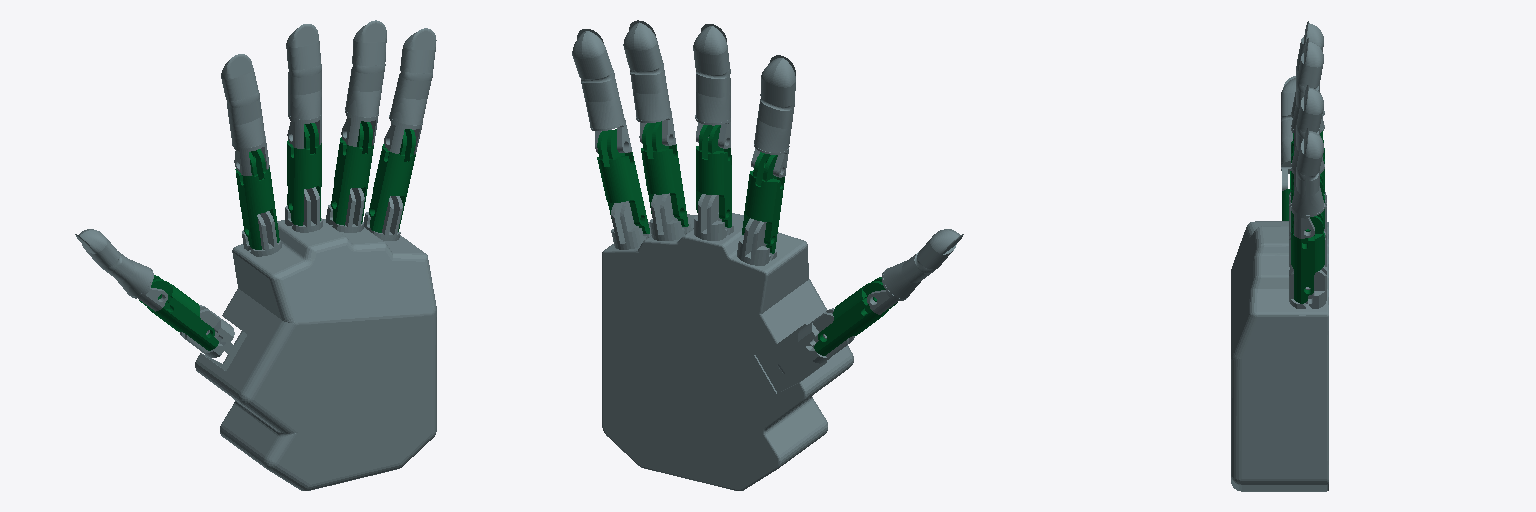
robot.urdf — hermes_right_hand:
<?xml version="1.0"?>
<robot name="hermes_right_hand">

 <!-- **************************** LINKS ***************************** -->
  <link name="r_base_hand"> 
    <inertial>
      <origin xyz="0 0 0" /> 
      <mass value="1.0" />
      <inertia  ixx="1.0" ixy="0.0"  ixz="0.0"  iyy="1.0"  iyz="0.0"  izz="1.0" />
    </inertial>
    <visual>
      <origin xyz="0 0 0"/>
      <geometry>
        <mesh filename="package://hermes_arm_kdl/stl/right_base_hand.stl" />
      </geometry>
      <material name="link">
        <color rgba="0.4706 0.5451 0.5647 1"/>
      </material>
    </visual>
    <collision>
      <origin rpy="0 0 0" xyz="0 0 0"/>
      <geometry>
        <mesh filename="package://hermes_arm_kdl/stl/right_base_hand.stl" />
      </geometry>
    </collision>	
  </link>

  <link name="r_thumb1"> 
    <inertial>
      <origin xyz="0 0 0" /> 
      <mass value="1.0" />
      <inertia  ixx="1.0" ixy="0.0"  ixz="0.0"  iyy="1.0"  iyz="0.0"  izz="1.0" />
    </inertial>
    <visual>
      <origin xyz="0 0 0"/>
      <geometry>
        <mesh filename="package://hermes_arm_kdl/stl/right_thumb_link1.stl" />
      </geometry>
      <material name="link">
        <color rgba="0.4706 0.5451 0.5647 1"/>
      </material>
    </visual>
    <collision>
      <origin rpy="0 0 0" xyz="0 0 0"/>
      <geometry>
        <mesh filename="package://hermes_arm_kdl/stl/right_thumb_link1.stl" />
      </geometry>
    </collision>	
  </link>

  <link name="r_thumb2"> 
    <inertial>
      <origin xyz="0 0 0" /> 
      <mass value="1.0" />
      <inertia  ixx="1.0" ixy="0.0"  ixz="0.0"  iyy="1.0"  iyz="0.0"  izz="1.0" />
    </inertial>
    <visual>
      <origin xyz="0 0 0"/>
      <geometry>
        <mesh filename="package://hermes_arm_kdl/stl/right_thumb_link2.stl" />
      </geometry>
      <material name="link2">
        <color rgba="0.03922 0.39922 0.2118 1"/>
      </material>
    </visual>
    <collision>
      <origin rpy="0 0 0" xyz="0 0 0"/>
      <geometry>
        <mesh filename="package://hermes_arm_kdl/stl/right_thumb_link2.stl" />
      </geometry>
    </collision>	
  </link>


  <link name="r_thumb3"> 
    <inertial>
      <origin xyz="0 0 0" /> 
      <mass value="1.0" />
      <inertia  ixx="1.0" ixy="0.0"  ixz="0.0"  iyy="1.0"  iyz="0.0"  izz="1.0" />
    </inertial>
    <visual>
      <origin xyz="0 0 0"/>
      <geometry>
        <mesh filename="package://hermes_arm_kdl/stl/right_thumb_link3.stl" />
      </geometry>
      <material name="link">
        <color rgba="0.4706 0.5451 0.5647 1"/>
      </material>
    </visual>
    <collision>
      <origin rpy="0 0 0" xyz="0 0 0"/>
      <geometry>
        <mesh filename="package://hermes_arm_kdl/stl/right_thumb_link3.stl" />
      </geometry>
    </collision>	
  </link>
  
  


  <link name="r_index1"> 
    <inertial>
      <origin xyz="0 0 0" /> 
      <mass value="1.0" />
      <inertia  ixx="1.0" ixy="0.0"  ixz="0.0"  iyy="1.0"  iyz="0.0"  izz="1.0" />
    </inertial>
    <visual>
      <origin xyz="0 0 0"/>
      <geometry>
        <mesh filename="package://hermes_arm_kdl/stl/right_index_link1.stl" />
      </geometry>
      <material name="link2">
        <color rgba="0.03922 0.39922 0.2118 1"/>
      </material>
    </visual>
    <collision>
      <origin rpy="0 0 0" xyz="0 0 0"/>
      <geometry>
        <mesh filename="package://hermes_arm_kdl/stl/right_index_link1.stl" />
      </geometry>
    </collision>	
  </link>

  <link name="r_index2"> 
    <inertial>
      <origin xyz="0 0 0" /> 
      <mass value="1.0" />
      <inertia  ixx="1.0" ixy="0.0"  ixz="0.0"  iyy="1.0"  iyz="0.0"  izz="1.0" />
    </inertial>
    <visual>
      <origin xyz="0 0 0"/>
      <geometry>
        <mesh filename="package://hermes_arm_kdl/stl/right_index_link2.stl" />
      </geometry>
      <material name="link">
        <color rgba="0.4706 0.5451 0.5647 1"/>
      </material>
    </visual>
    <collision>
      <origin rpy="0 0 0" xyz="0 0 0"/>
      <geometry>
        <mesh filename="package://hermes_arm_kdl/stl/right_index_link2.stl" />
      </geometry>
    </collision>	
  </link>



  <link name="r_middle1"> 
    <inertial>
      <origin xyz="0 0 0" /> 
      <mass value="1.0" />
      <inertia  ixx="1.0" ixy="0.0"  ixz="0.0"  iyy="1.0"  iyz="0.0"  izz="1.0" />
    </inertial>
    <visual>
      <origin xyz="0 0 0"/>
      <geometry>
        <mesh filename="package://hermes_arm_kdl/stl/right_middle_link1.stl" />
      </geometry>
      <material name="link2">
        <color rgba="0.03922 0.39922 0.2118 1"/>
      </material>
    </visual>
    <collision>
      <origin rpy="0 0 0" xyz="0 0 0"/>
      <geometry>
        <mesh filename="package://hermes_arm_kdl/stl/right_middle_link1.stl" />
      </geometry>
    </collision>	
  </link>

  <link name="r_middle2"> 
    <inertial>
      <origin xyz="0 0 0" /> 
      <mass value="1.0" />
      <inertia  ixx="1.0" ixy="0.0"  ixz="0.0"  iyy="1.0"  iyz="0.0"  izz="1.0" />
    </inertial>
    <visual>
      <origin xyz="0 0 0"/>
      <geometry>
        <mesh filename="package://hermes_arm_kdl/stl/right_middle_link2.stl" />
      </geometry>
      <material name="link">
        <color rgba="0.4706 0.5451 0.5647 1"/>
      </material>
    </visual>
    <collision>
      <origin rpy="0 0 0" xyz="0 0 0"/>
      <geometry>
        <mesh filename="package://hermes_arm_kdl/stl/right_middle_link2.stl" />
      </geometry>
    </collision>	
  </link>

 <link name="r_ring1"> 
    <inertial>
      <origin xyz="0 0 0" /> 
      <mass value="1.0" />
      <inertia  ixx="1.0" ixy="0.0"  ixz="0.0"  iyy="1.0"  iyz="0.0"  izz="1.0" />
    </inertial>
    <visual>
      <origin xyz="0 0 0"/>
      <geometry>
        <mesh filename="package://hermes_arm_kdl/stl/right_ring_link1.stl" />
      </geometry>
      <material name="link2">
        <color rgba="0.03922 0.39922 0.2118 1"/>
      </material>
    </visual>
    <collision>
      <origin rpy="0 0 0" xyz="0 0 0"/>
      <geometry>
        <mesh filename="package://hermes_arm_kdl/stl/right_ring_link1.stl" />
      </geometry>
    </collision>	
  </link>

  <link name="r_ring2"> 
    <inertial>
      <origin xyz="0 0 0" /> 
      <mass value="1.0" />
      <inertia  ixx="1.0" ixy="0.0"  ixz="0.0"  iyy="1.0"  iyz="0.0"  izz="1.0" />
    </inertial>
    <visual>
      <origin xyz="0 0 0"/>
      <geometry>
        <mesh filename="package://hermes_arm_kdl/stl/right_ring_link2.stl" />
      </geometry>
      <material name="link">
        <color rgba="0.4706 0.5451 0.5647 1"/>
      </material>
    </visual>
    <collision>
      <origin rpy="0 0 0" xyz="0 0 0"/>
      <geometry>
        <mesh filename="package://hermes_arm_kdl/stl/right_ring_link2.stl" />
      </geometry>
    </collision>	
  </link>


 <link name="r_pinky1"> 
    <inertial>
      <origin xyz="0 0 0" /> 
      <mass value="1.0" />
      <inertia  ixx="1.0" ixy="0.0"  ixz="0.0"  iyy="1.0"  iyz="0.0"  izz="1.0" />
    </inertial>
    <visual>
      <origin xyz="0 0 0"/>
      <geometry>
        <mesh filename="package://hermes_arm_kdl/stl/right_pinky_link1.stl" />
      </geometry>
      <material name="link2">
        <color rgba="0.03922 0.39922 0.2118 1"/>
      </material>
    </visual>
    <collision>
      <origin rpy="0 0 0" xyz="0 0 0"/>
      <geometry>
        <mesh filename="package://hermes_arm_kdl/stl/right_pinky_link1.stl" />
      </geometry>
    </collision>	
  </link>

  <link name="r_pinky2"> 
    <inertial>
      <origin xyz="0 0 0" /> 
      <mass value="1.0" />
      <inertia  ixx="1.0" ixy="0.0"  ixz="0.0"  iyy="1.0"  iyz="0.0"  izz="1.0" />
    </inertial>
    <visual>
      <origin xyz="0 0 0"/>
      <geometry>
        <mesh filename="package://hermes_arm_kdl/stl/right_pinky_link2.stl" />
      </geometry>
      <material name="link">
        <color rgba="0.4706 0.5451 0.5647 1"/>
      </material>
    </visual>
    <collision>
      <origin rpy="0 0 0" xyz="0 0 0"/>
      <geometry>
        <mesh filename="package://hermes_arm_kdl/stl/right_pinky_link2.stl" />
      </geometry>
    </collision>	
  </link>

 <link name="r_thumb_eef" /> 
 <link name="r_index_eef" />
 <link name="r_middle_eef" />
 <link name="r_ring_eef" />
 <link name="r_pinky_eef" />
    



  

 <!-- **************************** JOINTS ***************************** -->

  <joint name="r_thumb_joint1" type="revolute">
    <parent link="r_base_hand"/>
    <child link="r_thumb1"/>
    <origin xyz="-0.0403  0.0095 0.0593" rpy="0 -2.3858 0" />
    <limit effort="100" velocity="100" lower="-3.14" upper="3.14" />
    <axis xyz="0 0 1" />
  </joint>

  <joint name="r_thumb_joint2" type="revolute">
    <parent link="r_thumb1"/>
    <child link="r_thumb2"/>
    <origin xyz="0.033 0 0" rpy="-1.5708 0 0" />
    <limit effort="100" velocity="100" lower="-3.14" upper="3.14" />
    <axis xyz="0 0 1" />
  </joint>

  <joint name="r_thumb_joint3" type="revolute">
    <parent link="r_thumb2"/>
    <child link="r_thumb3"/>
    <origin xyz="0.035 0 0" rpy="0 0 0" />
    <limit effort="100" velocity="100" lower="-3.14" upper="3.14" />
    <axis xyz="0 0 1" />
  </joint>

  <joint name="r_thumb_joint_eef" type="fixed">
    <parent link="r_thumb3"/>
    <child link="r_thumb_eef"/>
    <origin xyz="0.055425 0 0" rpy="0 0 0" />
  </joint>


  <joint name="r_index_joint1" type="revolute">
    <parent link="r_base_hand"/>
    <child link="r_index1"/>
    <origin xyz="-0.03 0.0145 0.1240" rpy="-3.1416 -1.4331 -3.1416" />
    <limit effort="100" velocity="100" lower="-3.14" upper="3.14" />
    <axis xyz="0 0 1" />
  </joint>

  <joint name="r_index_joint2" type="revolute">
    <parent link="r_index1"/>
    <child link="r_index2"/>
    <origin xyz="0.035 0 0" rpy="0 0 0" />
    <limit effort="100" velocity="100" lower="-3.14" upper="3.14" />
    <axis xyz="0 0 1" />
  </joint>

  <joint name="r_index_joint_eff" type="fixed">
    <parent link="r_index2"/>
    <child link="r_index_eef"/>
    <origin xyz="0.055425 0 0" rpy="0 0 0" />
  </joint>

  <joint name="r_middle_joint1" type="revolute">
    <parent link="r_base_hand"/>
    <child link="r_middle1"/>
    <origin xyz="-0.0066 0.0145 0.1304" rpy="0 -1.5645 0" />
    <limit effort="100" velocity="100" lower="-3.14" upper="3.14" />
    <axis xyz="0 0 1" />
  </joint>

  <joint name="r_middle_joint2" type="revolute">
    <parent link="r_middle1"/>
    <child link="r_middle2"/>
    <origin xyz="0.035 0 0" rpy="0 0 0" />
    <limit effort="100" velocity="100" lower="-3.14" upper="3.14" />
    <axis xyz="0 0 1" />
  </joint>

  <joint name="r_middle_joint_eff" type="fixed">
    <parent link="r_middle2"/>
    <child link="r_middle_eef"/>
    <origin xyz="0.055425 0 0" rpy="0 0 0" />
  </joint>

  <joint name="r_ring_joint1" type="revolute">
    <parent link="r_base_hand"/>
    <child link="r_ring1"/>
    <origin xyz="0.0168 0.0145 0.1246" rpy="0 -1.4081 0" />
    <limit effort="100" velocity="100" lower="-3.14" upper="3.14" />
    <axis xyz="0 0 1" />
  </joint>

  <joint name="r_ring_joint2" type="revolute">
    <parent link="r_ring1"/>
    <child link="r_ring2"/>
    <origin xyz="0.035 0 0" rpy="0 0 0" />
    <limit effort="100" velocity="100" lower="-3.14" upper="3.14" />
    <axis xyz="0 0 1" />
  </joint>

  <joint name="r_ring_joint_eff" type="fixed">
    <parent link="r_ring2"/>
    <child link="r_ring_eef"/>
    <origin xyz="0.055425 0 0" rpy="0 0 0" />
  </joint>

  <joint name="r_pinky_joint1" type="revolute">
    <parent link="r_base_hand"/>
    <child link="r_pinky1"/>
    <origin xyz="0.0370 0.0145 0.1157" rpy="0 -1.3298 0" />
    <limit effort="100" velocity="100" lower="-3.14" upper="3.14" />
    <axis xyz="0 0 1" />
  </joint>

  <joint name="r_pinky_joint2" type="revolute">
    <parent link="r_pinky1"/>
    <child link="r_pinky2"/>
    <origin xyz="0.035 0 0" rpy="0 0 0" />
    <limit effort="100" velocity="100" lower="-3.14" upper="3.14" />
    <axis xyz="0 0 1" />
  </joint >

  <joint name="r_pinky_joint_eff" type="fixed">
    <parent link="r_pinky2"/>
    <child link="r_pinky_eef"/>
    <origin xyz="0.055425 0 0" rpy="0 0 0" />
  </joint>


</robot>

--- Facts derived from the render (not from the file) ---
3 views of the same robot in one strip: view 1: azimuth 30°, elevation 25°; view 2: azimuth 150°, elevation 25°; view 3: azimuth 270°, elevation 25° (orthographic).
Model hermes_right_hand with 17 links and 16 joints (11 revolute, 5 fixed), rooted at r_base_hand, posed all joints at 0.
Visible links, largest first — view 1: r_base_hand, r_pinky2, r_ring2, r_middle2, r_index2, r_thumb3, r_pinky1, r_ring1, r_middle1, r_index1, r_thumb2, r_thumb1; view 2: r_base_hand, r_pinky2, r_ring2, r_middle2, r_index2, r_thumb3, r_pinky1, r_ring1, r_middle1, r_index1, r_thumb2, r_thumb1; view 3: r_base_hand, r_pinky2, r_pinky1, r_middle2, r_ring2, r_thumb3, r_index2.
Boxes of the visible links, <box> form: r_base_hand: <box>195,187,436,490</box>; r_pinky2: <box>384,28,436,154</box>; r_ring2: <box>341,20,386,146</box>; r_middle2: <box>286,24,321,148</box>; r_index2: <box>221,54,269,175</box>; r_thumb3: <box>75,229,167,311</box>; r_pinky1: <box>369,129,415,232</box>; r_ring1: <box>331,121,373,225</box>; r_middle1: <box>287,123,321,225</box>; r_index1: <box>235,149,279,249</box>; r_thumb2: <box>139,275,218,350</box>; r_thumb1: <box>180,305,238,357</box>; r_base_hand: <box>602,193,853,490</box>; r_pinky2: <box>572,29,631,152</box>; r_ring2: <box>623,20,675,145</box>; r_middle2: <box>693,24,730,148</box>; r_index2: <box>751,55,795,177</box>; r_thumb3: <box>867,229,963,314</box>; r_pinky1: <box>597,129,649,233</box>; r_ring1: <box>641,121,688,226</box>; r_middle1: <box>696,125,731,227</box>; r_index1: <box>742,152,784,253</box>; r_thumb2: <box>814,277,897,355</box>; r_thumb1: <box>777,308,854,373</box>; r_base_hand: <box>1231,192,1328,491</box>; r_pinky2: <box>1291,128,1324,238</box>; r_pinky1: <box>1291,213,1324,303</box>; r_middle2: <box>1291,38,1324,150</box>; r_ring2: <box>1291,85,1324,190</box>; r_thumb3: <box>1281,76,1295,190</box>; r_index2: <box>1291,21,1324,117</box>.
Bounding box of the posed robot: 0.1946 × 0.0465 × 0.2219 m (x, y, z).
12 mesh visuals loaded from 12 distinct referenced files (12 binary STL).
